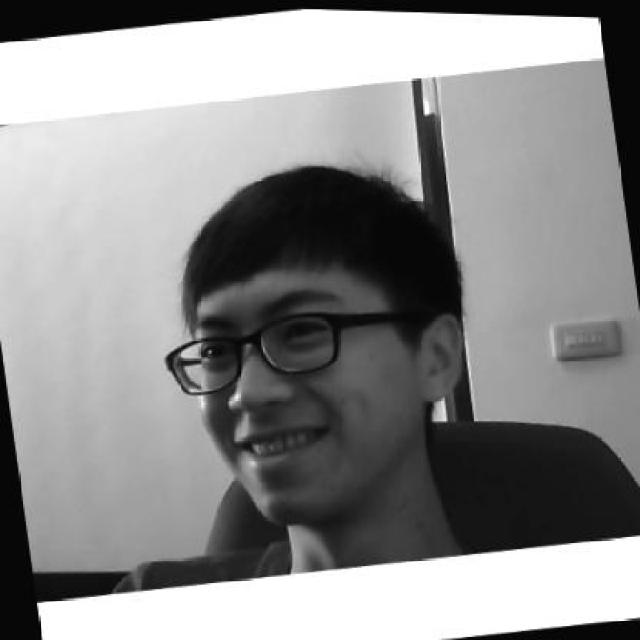attentif: (138, 142, 484, 543)
